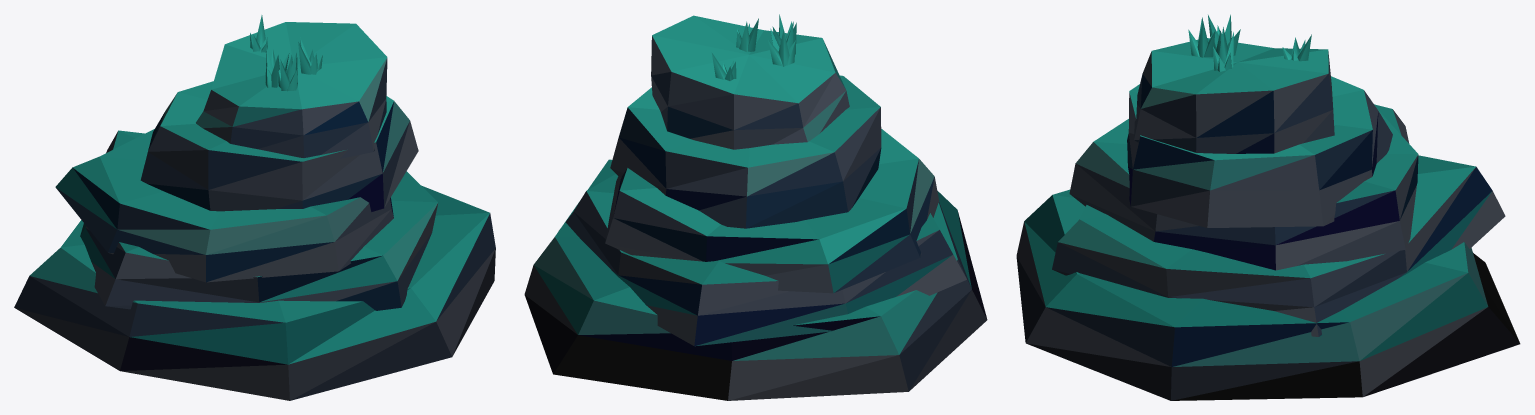
File: batu_slate_basalt_999960.glb
3 views of the same model, side by side, from view 1: azimuth 30°, elevation 25°; view 2: azimuth 150°, elevation 25°; view 3: azimuth 270°, elevation 25° (orthographic). The views are drawn at different scales.
Parts seen in each view (by area): view 1: Batu_Pipih_Bertumpuk; view 2: Batu_Pipih_Bertumpuk; view 3: Batu_Pipih_Bertumpuk.
Part boxes in pixels (x1,y1,x2,y2): Batu_Pipih_Bertumpuk: [14, 15, 495, 400]; Batu_Pipih_Bertumpuk: [524, 14, 987, 400]; Batu_Pipih_Bertumpuk: [1016, 14, 1520, 400].
Size of the model in its own units: 4.75 by 3.08 by 4.95.
